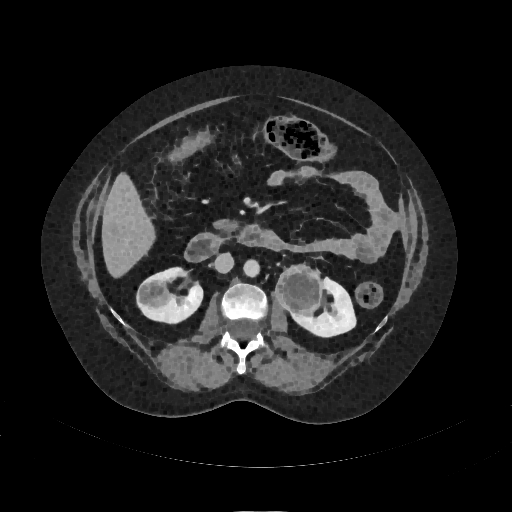Lesion: (274, 263, 329, 321)
